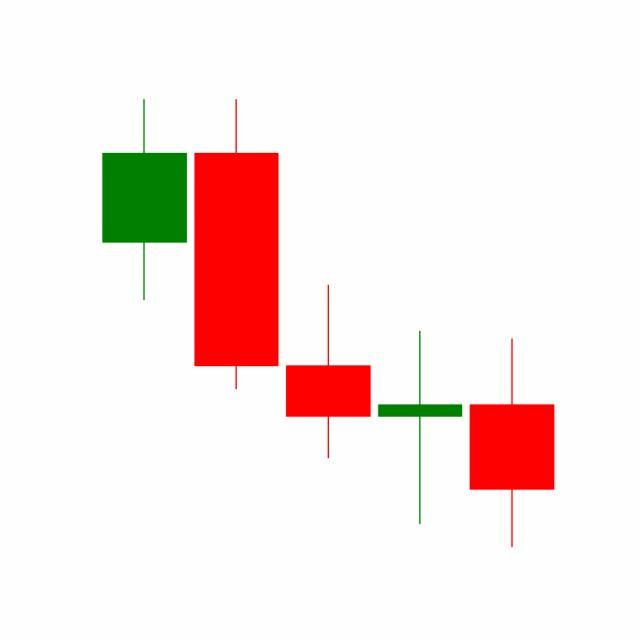Spinning Top: (374, 329, 468, 528)
